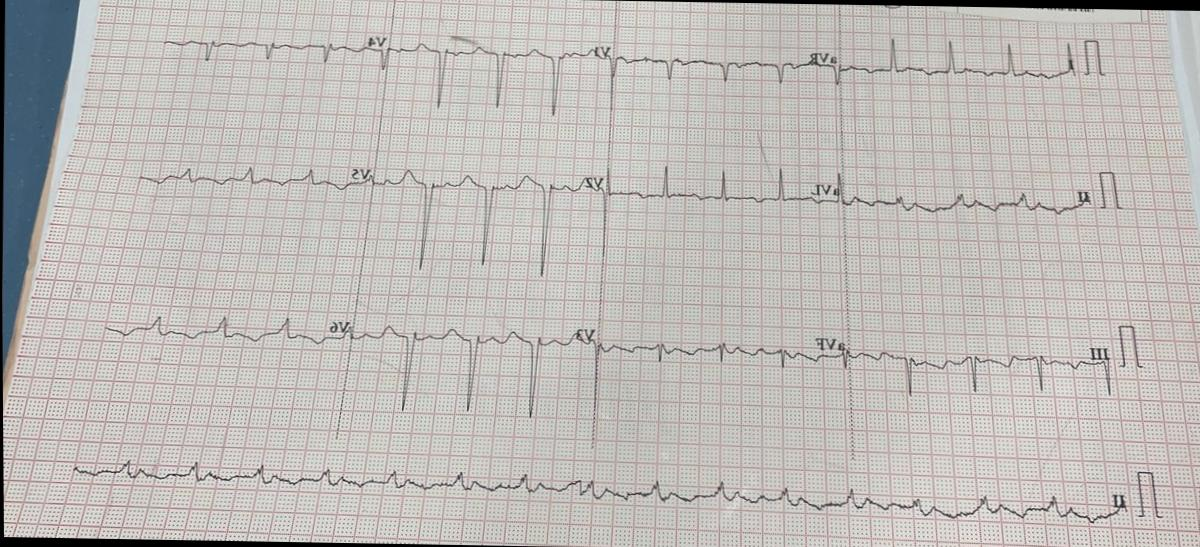Lead_I: (837, 29, 1082, 104)
Lead_II: (838, 161, 1098, 234)
Lead_III: (844, 329, 1116, 411)
Lead_II_ext: (48, 446, 1131, 538)
Lead_V1: (384, 25, 615, 131)
Lead_V2: (368, 150, 608, 286)
Lead_V3: (348, 304, 599, 434)
Lead_V4: (156, 14, 387, 84)
Lead_V5: (134, 142, 373, 213)
Lead_V6: (88, 294, 349, 370)
Lead_aVF: (592, 314, 849, 388)
Lead_aVL: (604, 156, 843, 230)
Lead_aVR: (610, 26, 841, 114)
